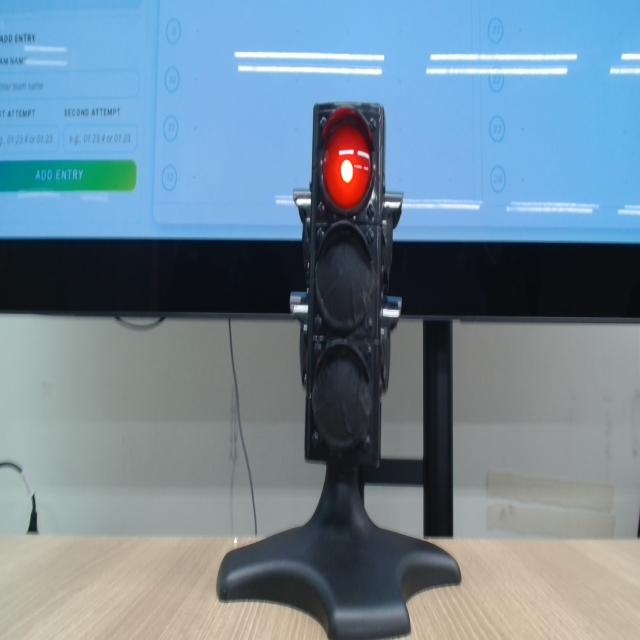red_light: (322, 119, 371, 211)
